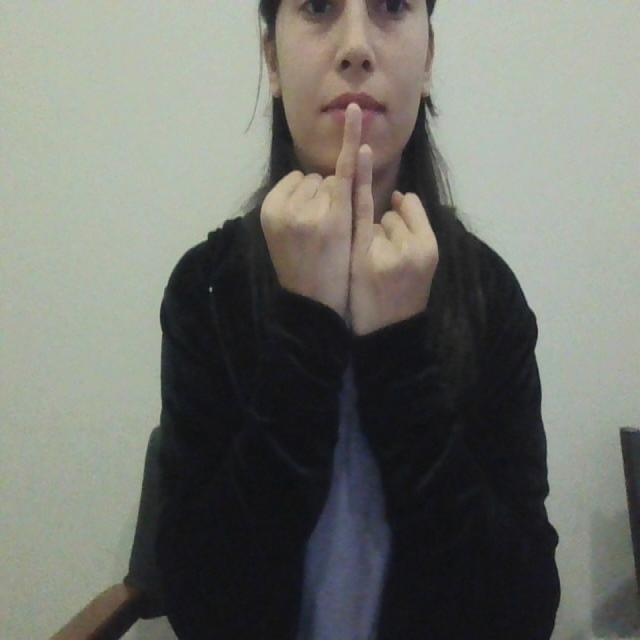Kardes: (258, 98, 450, 344)
